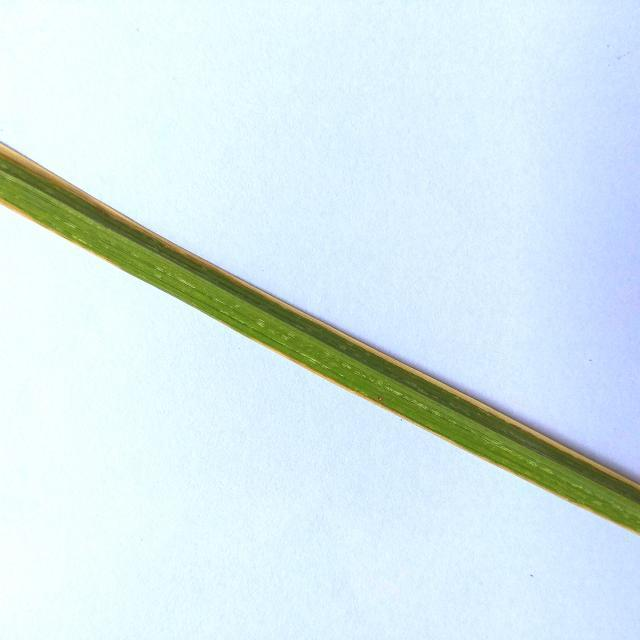Blast: (374, 394, 399, 404)
